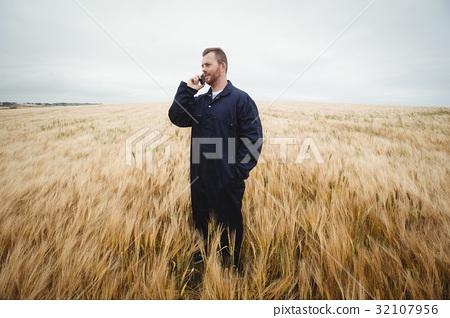talk: (187, 62, 217, 88)
